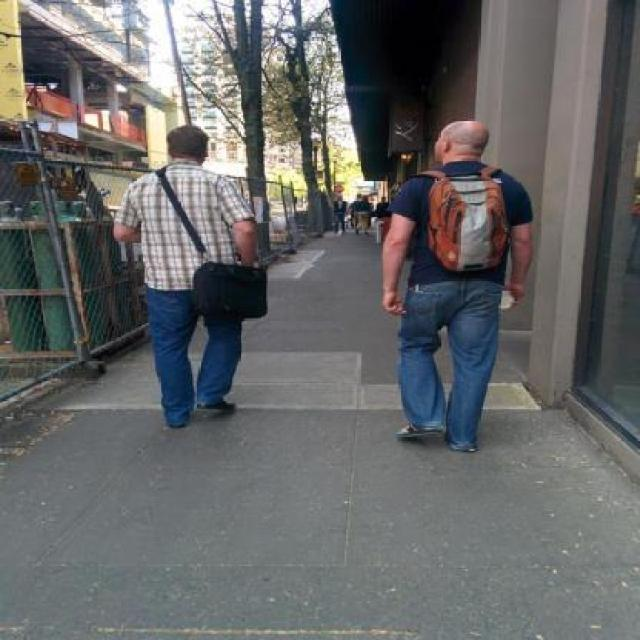backpack: (414, 163, 517, 275), (190, 257, 272, 325)
